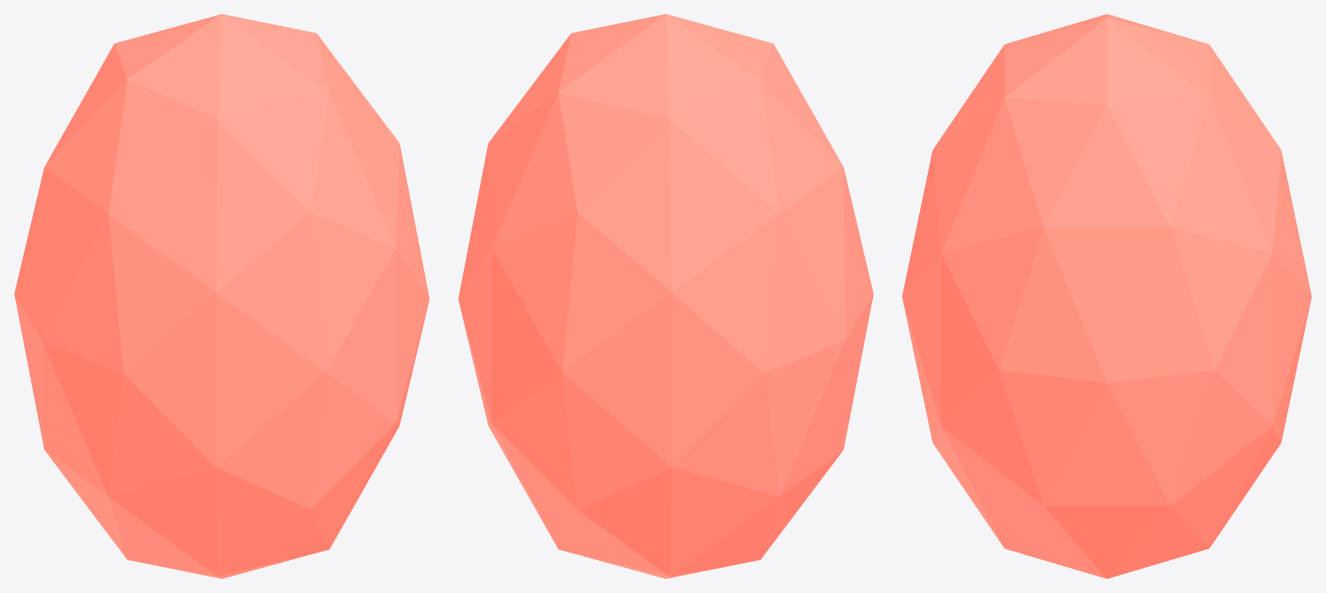
Rendered from ember_heart.glb.
3 views of the same model, side by side, from view 1: azimuth 30°, elevation 25°; view 2: azimuth 150°, elevation 25°; view 3: azimuth 270°, elevation 25° (orthographic).
Parts seen in each view (by area): view 1: ember_heart; view 2: ember_heart; view 3: ember_heart.
Part boxes in pixels (x1,y1,x2,y2): ember_heart: (14, 14, 429, 578); ember_heart: (458, 14, 873, 578); ember_heart: (902, 14, 1311, 578).
Bounding box in the file's own units: 0.352 × 0.528 × 0.352.
